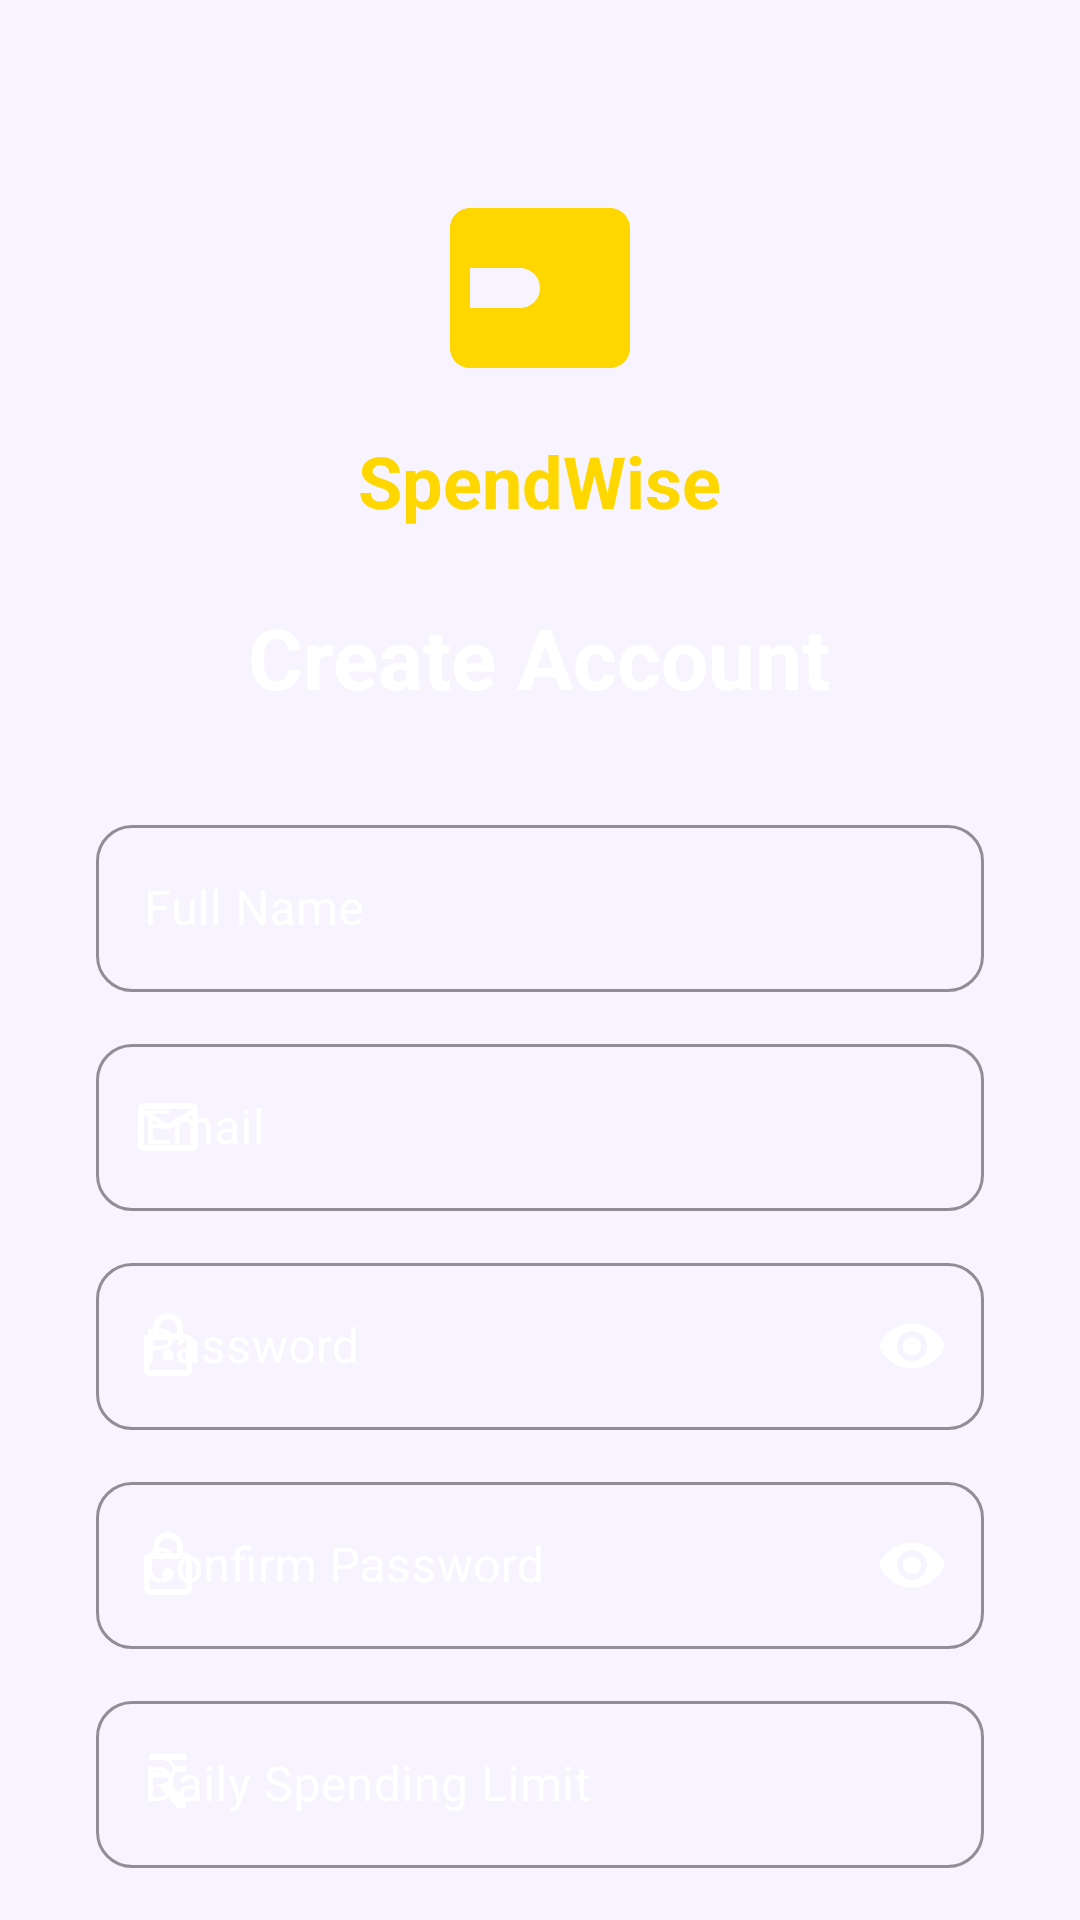

Point at icon controls on the screen. Image size 1080px×1920px, points as point (x, y).
wallet: point (540, 288)
